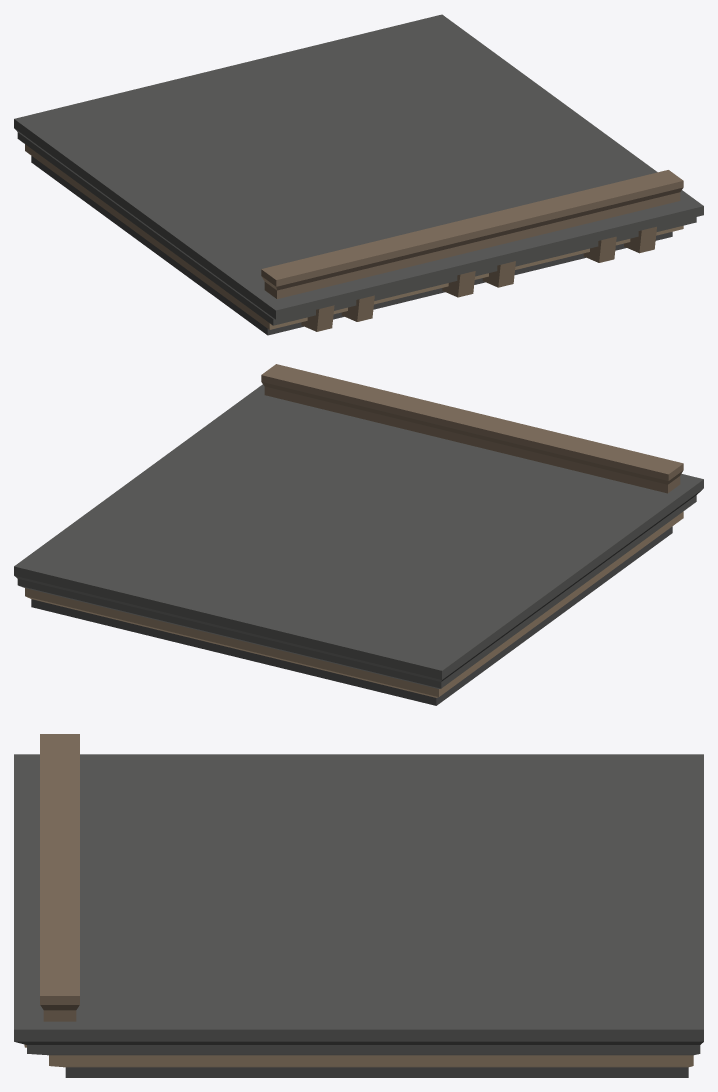
The model's file is SM_Bld_Apartment_Roof_03.obj.
The picture shows the model from 3 angles, top to bottom: view 1: azimuth 30°, elevation 25°; view 2: azimuth 150°, elevation 25°; view 3: azimuth 270°, elevation 25°; orthographic projection. The views are drawn at different scales.
Visible parts, largest first — view 1: SM_Bld_Apartment_Roof_03_0; view 2: SM_Bld_Apartment_Roof_03_0; view 3: SM_Bld_Apartment_Roof_03_0.
Part boxes in pixels (bbox=[...]): SM_Bld_Apartment_Roof_03_0: bbox=[14, 14, 703, 335]; SM_Bld_Apartment_Roof_03_0: bbox=[14, 364, 703, 705]; SM_Bld_Apartment_Roof_03_0: bbox=[14, 734, 703, 1077].
Bounding box in the file's own units: 5.31 × 0.7435 × 5.62.
Materials: 1 (1 with a texture image).
